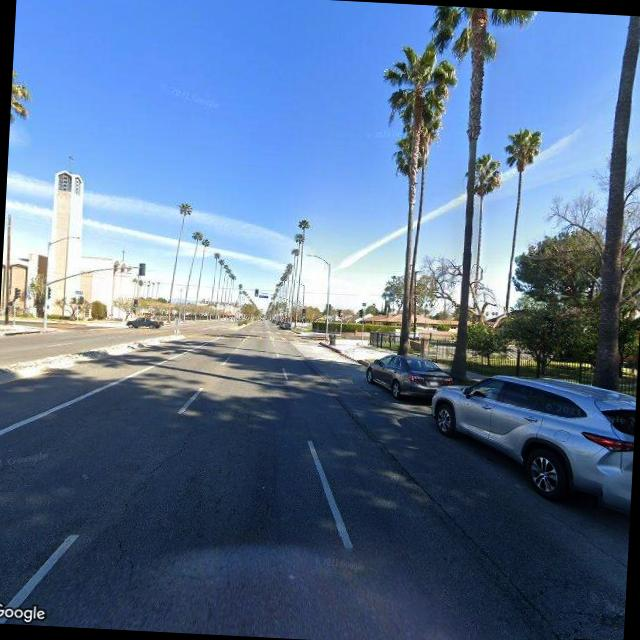pothole: (120, 427, 190, 514), (108, 536, 140, 590)
